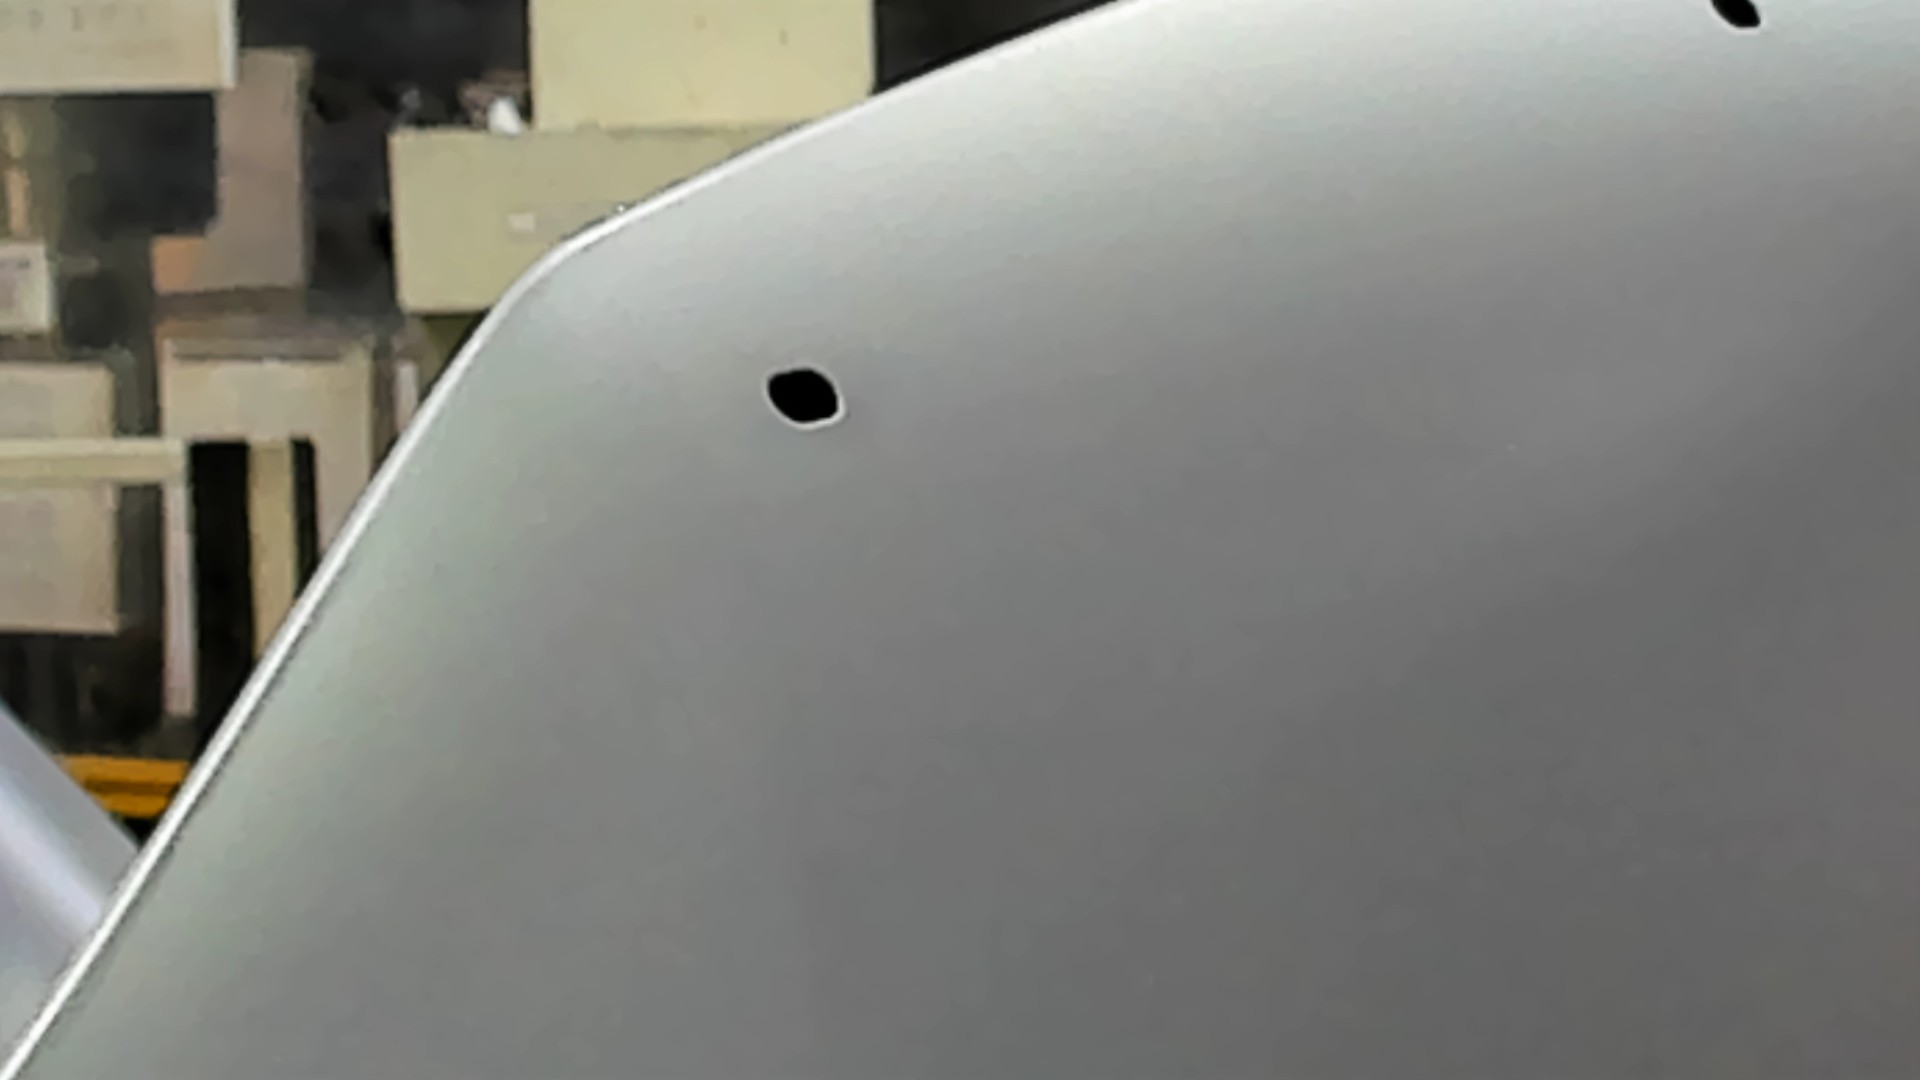amorfo: (756, 361, 852, 433), (1702, 1, 1778, 41)
